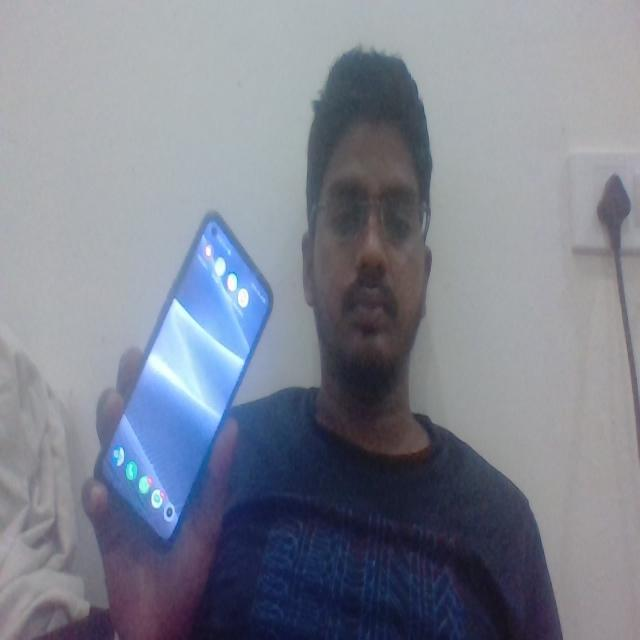Phone: (88, 209, 274, 555)
